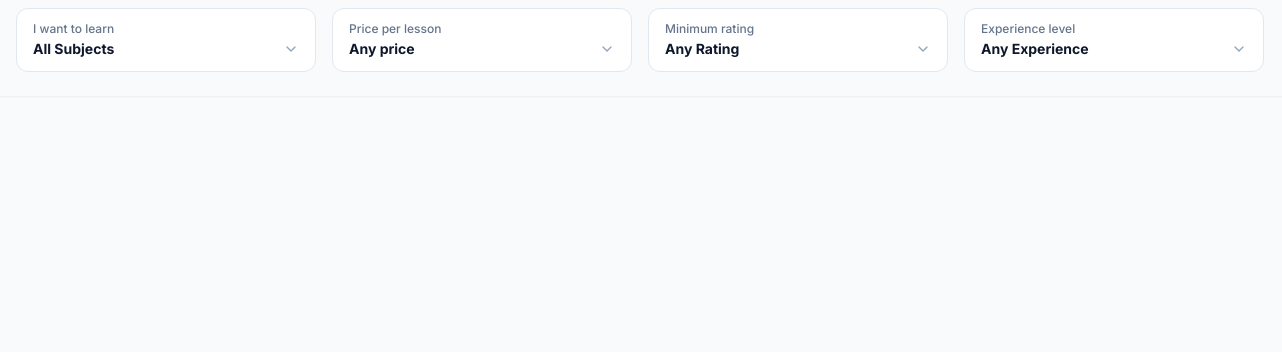
Test: TutorSearchSection › shows experience filter options when clicked
Click the text "Any Experience": (1039, 49) [981, 39, 1097, 59]
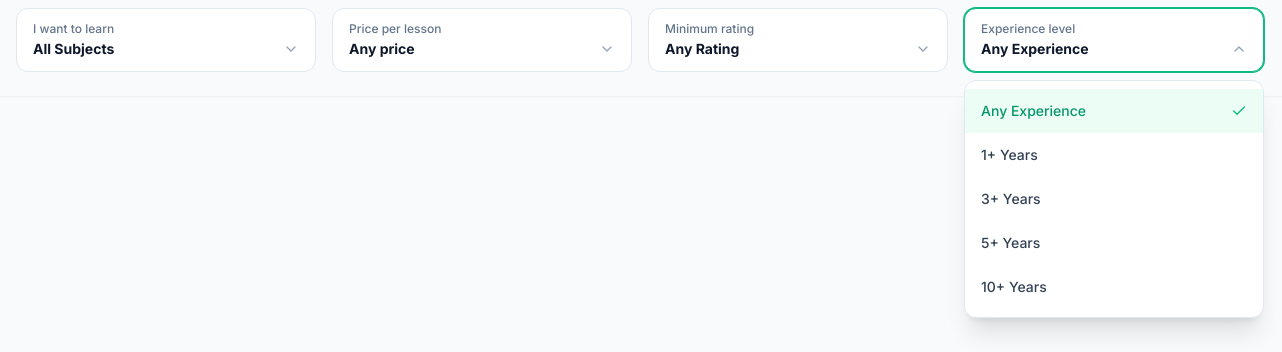
Expected: the text "1+ Years" is shown, [981, 145, 1038, 165]
Expected: the text "3+ Years" is shown, [981, 189, 1041, 209]
Expected: the text "5+ Years" is shown, [981, 233, 1040, 253]
